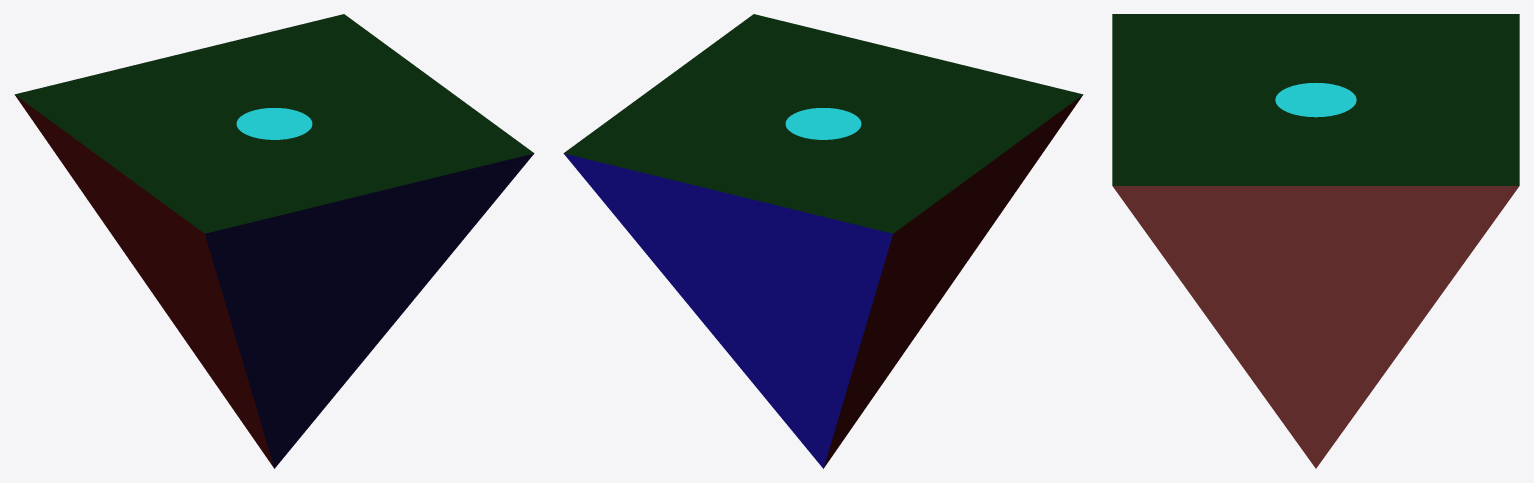
The model's file is 方位标.glb.
The picture shows the model from 3 angles, left to right: view 1: azimuth 30°, elevation 25°; view 2: azimuth 150°, elevation 25°; view 3: azimuth 270°, elevation 25°; orthographic projection. The views are drawn at different scales.
Visible parts, largest first — view 1: Cube; view 2: Cube; view 3: Cube.
Part boxes in pixels (<box>): Cube: <box>14,14,534,468</box>; Cube: <box>563,14,1083,468</box>; Cube: <box>1112,14,1519,468</box>.
Bounding box in the file's own units: 0.5 × 0.5 × 0.5.
